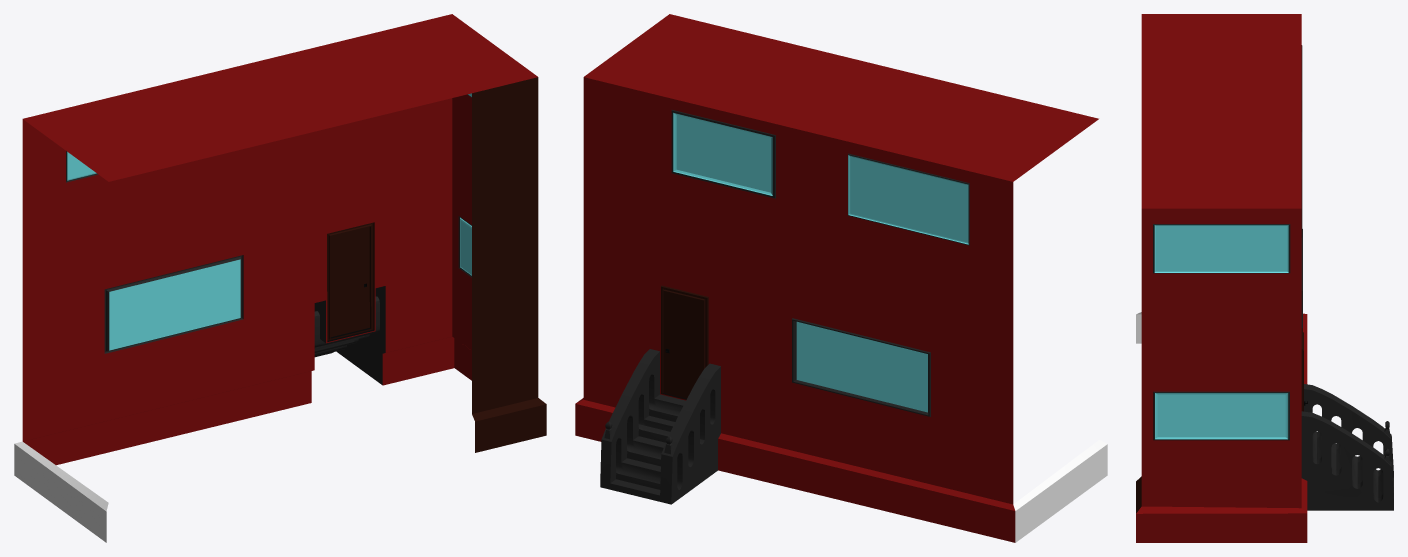
File: edificio1.fbx
3 renders of one model, left to right at view 1: azimuth 30°, elevation 25°; view 2: azimuth 150°, elevation 25°; view 3: azimuth 270°, elevation 25°, orthographic. The views are drawn at different scales.
Parts seen in each view (by area): view 1: Box003; view 2: Box003; view 3: Box003.
Part boxes in pixels (left/top/right/bottom): Box003: left=14, top=14, right=546, bottom=542; Box003: left=575, top=14, right=1107, bottom=542; Box003: left=1136, top=14, right=1393, bottom=542.
Size of the model in its own units: 2815 by 2185 by 1538.
